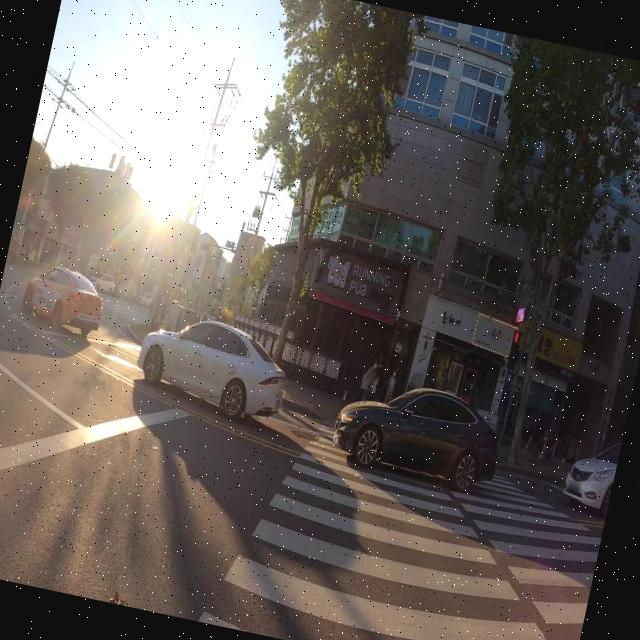crosswalk: (196, 416, 599, 640), (97, 294, 149, 323)
